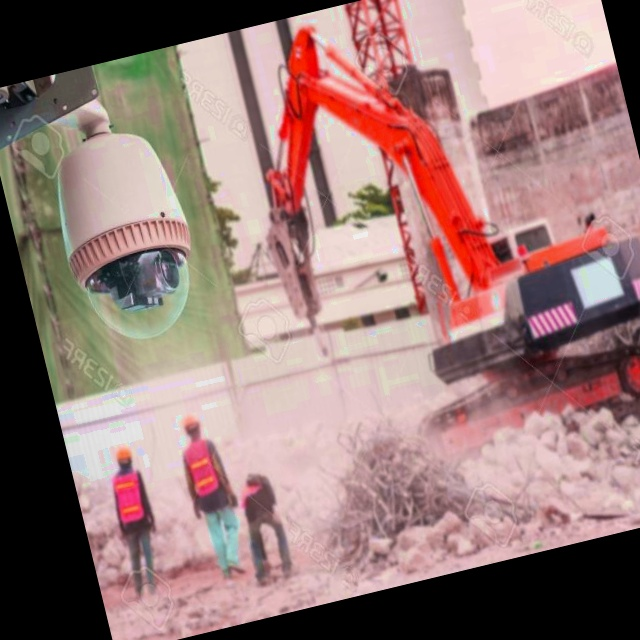Con_Chaleco: (178, 436, 228, 507), (107, 465, 155, 528)
